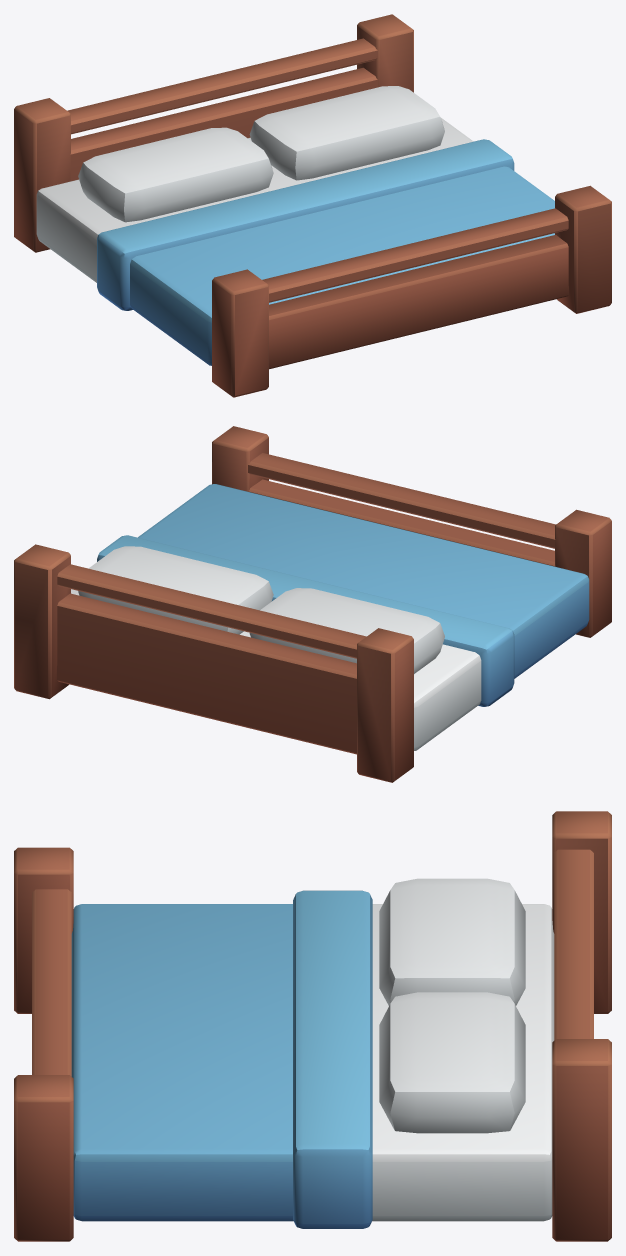
3 views of the same model, one above another, from view 1: azimuth 30°, elevation 25°; view 2: azimuth 150°, elevation 25°; view 3: azimuth 270°, elevation 25° (orthographic). The views are drawn at different scales.
Visible parts, largest first — view 1: bed_double_B; view 2: bed_double_B; view 3: bed_double_B.
Part boxes in pixels (left/top/right/bottom): bed_double_B: left=14, top=14, right=611, bottom=397; bed_double_B: left=14, top=426, right=611, bottom=782; bed_double_B: left=14, top=811, right=611, bottom=1241.
Size of the model in its own units: 3.1 by 1 by 3.
1 material, 1 textured.
